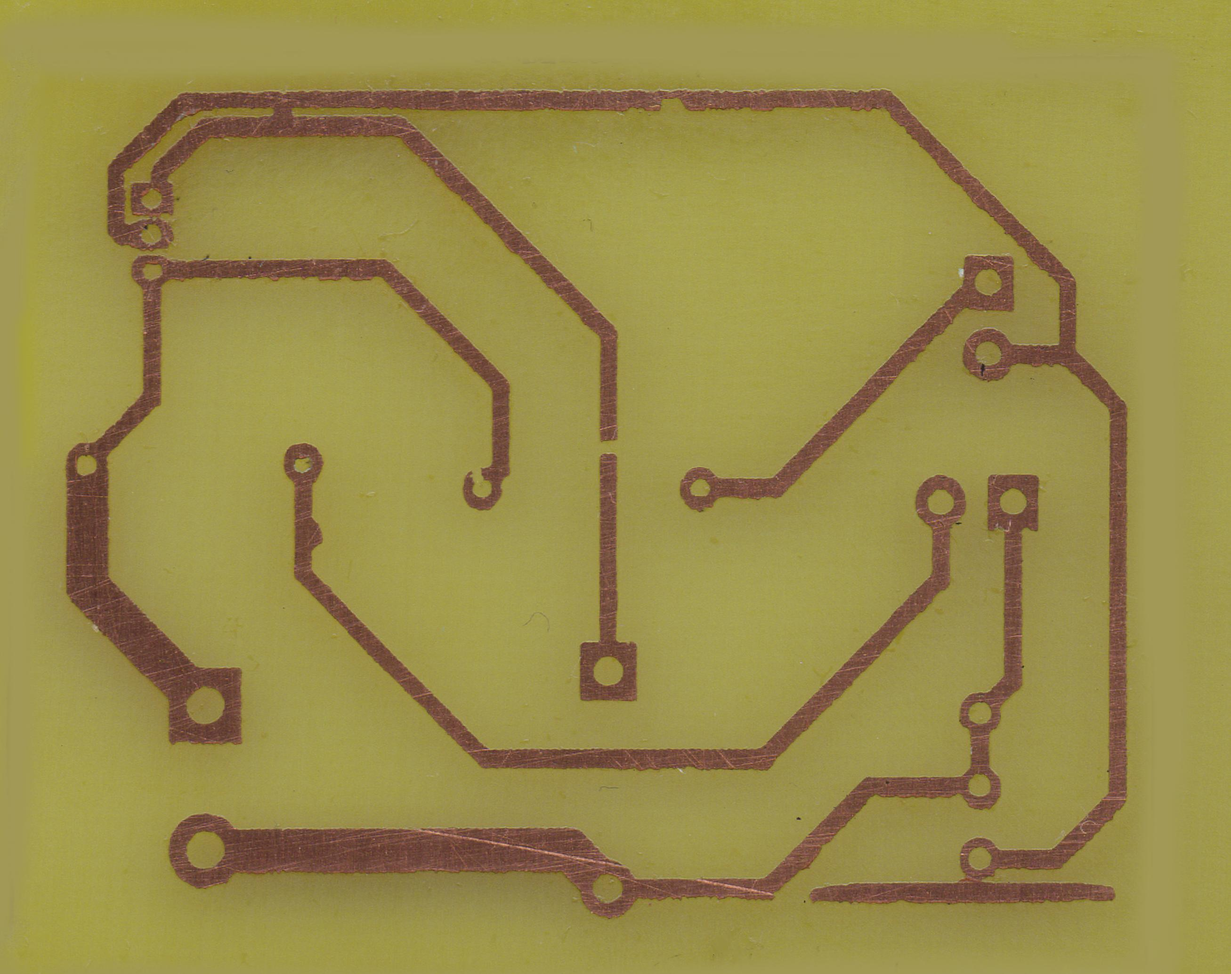missing_hole: (462, 463, 508, 517)
mouse_bite: (652, 83, 692, 117)
open_circuit: (591, 430, 625, 468)
short: (265, 83, 301, 142)
spur: (291, 517, 329, 556)
spurious_copper: (809, 876, 1122, 909)
